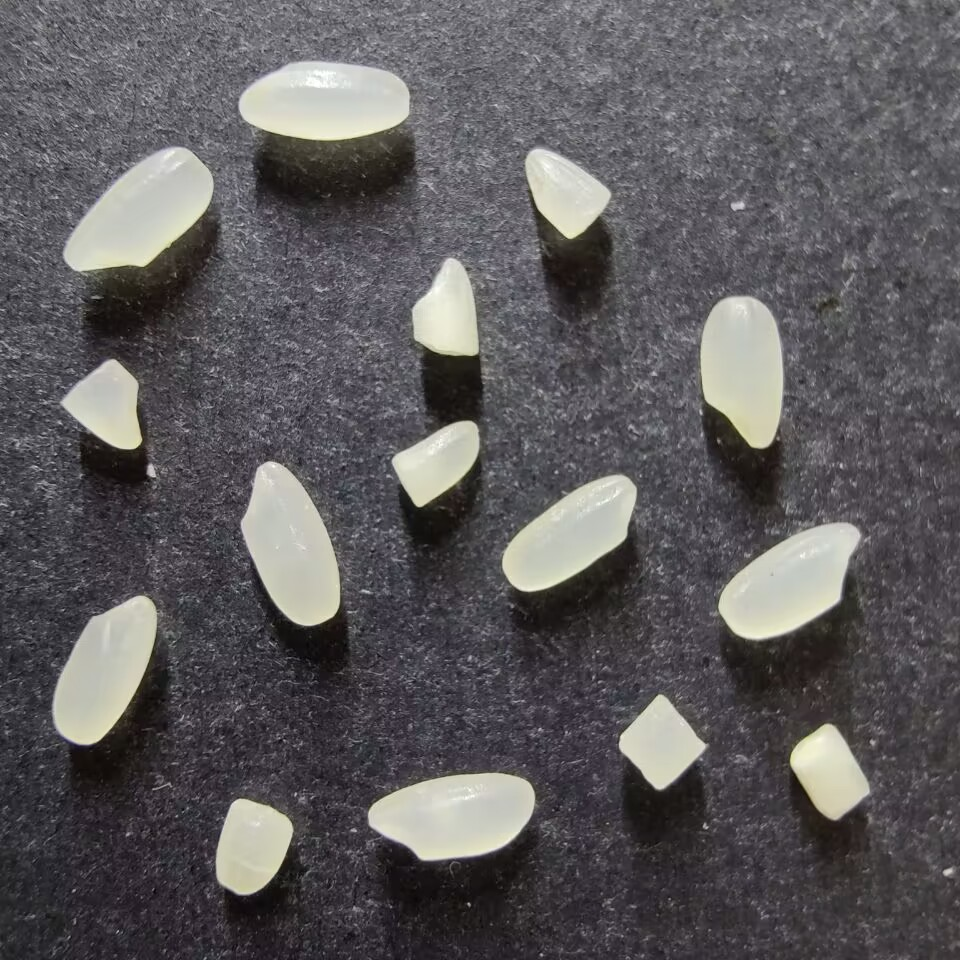broken: (617, 693, 708, 791), (788, 723, 871, 822), (524, 148, 610, 239), (59, 358, 143, 451), (391, 420, 479, 508), (214, 798, 293, 895), (410, 257, 479, 358)
rice: (62, 146, 214, 272), (239, 460, 341, 627), (718, 522, 860, 639), (501, 474, 636, 593), (51, 595, 157, 746), (366, 772, 534, 861), (237, 61, 411, 140), (699, 296, 783, 449)
